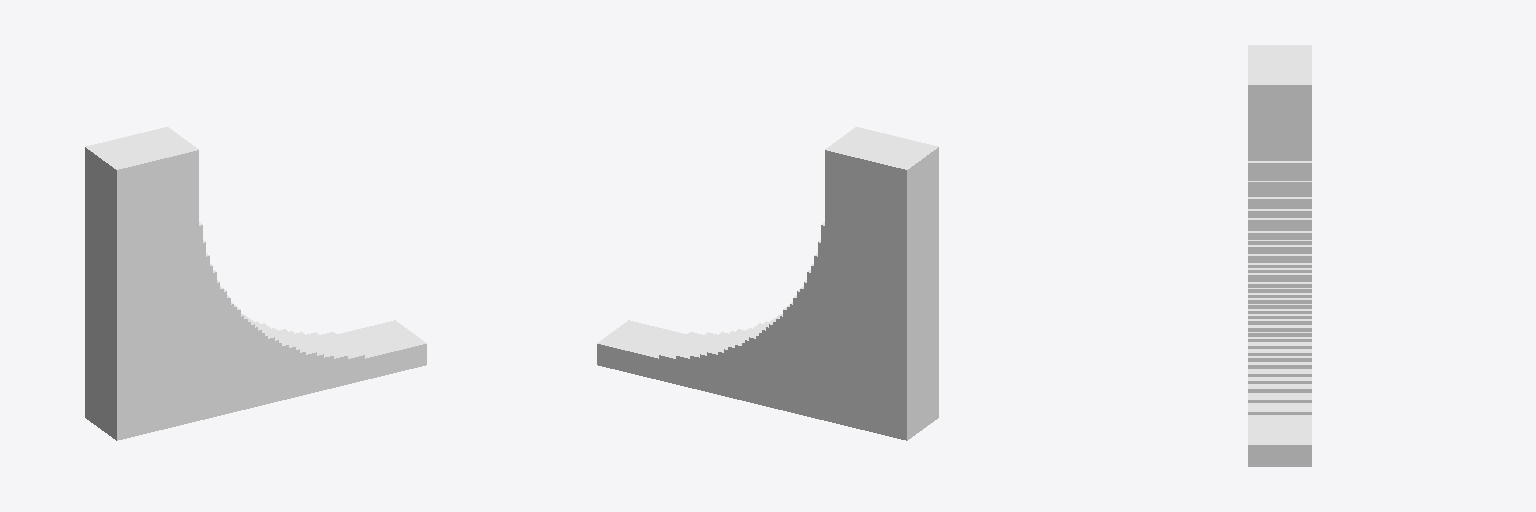
Rendered from loop.obj.
The picture shows the model from 3 angles: view 1: azimuth 30°, elevation 25°; view 2: azimuth 150°, elevation 25°; view 3: azimuth 270°, elevation 25°; orthographic projection.
Visible parts, largest first — view 1: object 1; view 2: object 1; view 3: object 1.
Boxes of the visible parts, <box> form: object 1: <box>85,127,426,440</box>; object 1: <box>597,127,938,440</box>; object 1: <box>1248,45,1311,466</box>.
Bounding box in the file's own units: 9 × 7.5 × 1.6.